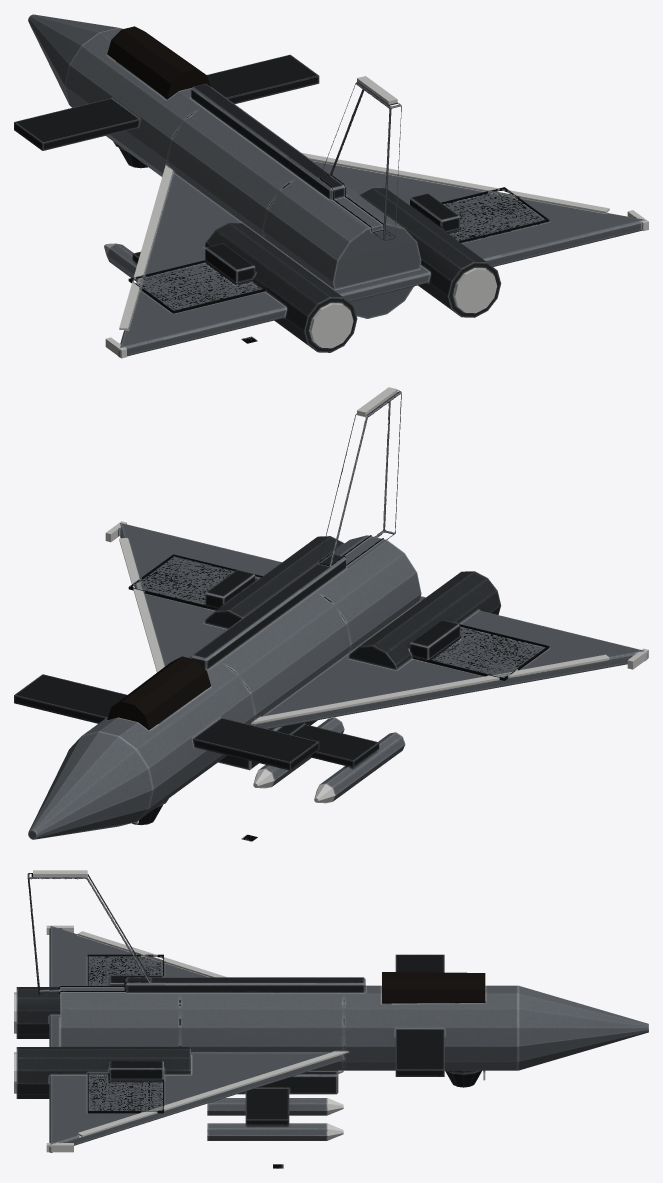
The model's file is chs_manticore.fbx.
3 renders of one model, top to bottom at view 1: azimuth 30°, elevation 25°; view 2: azimuth 150°, elevation 25°; view 3: azimuth 270°, elevation 25°, orthographic. The views are drawn at different scales.
Visible parts, largest first — view 1: base_bar, base_glow_running_bar, pylon_bar; view 2: base_bar, pylon_bar, base_glow_running_bar, pylon_glow_weapon_bar; view 3: base_bar, pylon_bar, base_glow_running_bar, turret_bar.
Boxes of the visible parts, bbox=[...] form: base_bar: bbox=[14, 14, 645, 357]; base_glow_running_bar: bbox=[105, 76, 648, 358]; pylon_bar: bbox=[106, 243, 140, 281]; base_bar: bbox=[14, 390, 647, 839]; pylon_bar: bbox=[218, 717, 405, 801]; base_glow_running_bar: bbox=[105, 387, 648, 724]; pylon_glow_weapon_bar: bbox=[253, 769, 335, 803]; base_bar: bbox=[16, 873, 648, 1152]; pylon_bar: bbox=[207, 1070, 338, 1140]; base_glow_running_bar: bbox=[14, 870, 348, 1152]; turret_bar: bbox=[445, 1070, 481, 1087].
Size of the model in its own units: 956 by 596 by 1165.
Materials: 2 (2 with a texture image).
